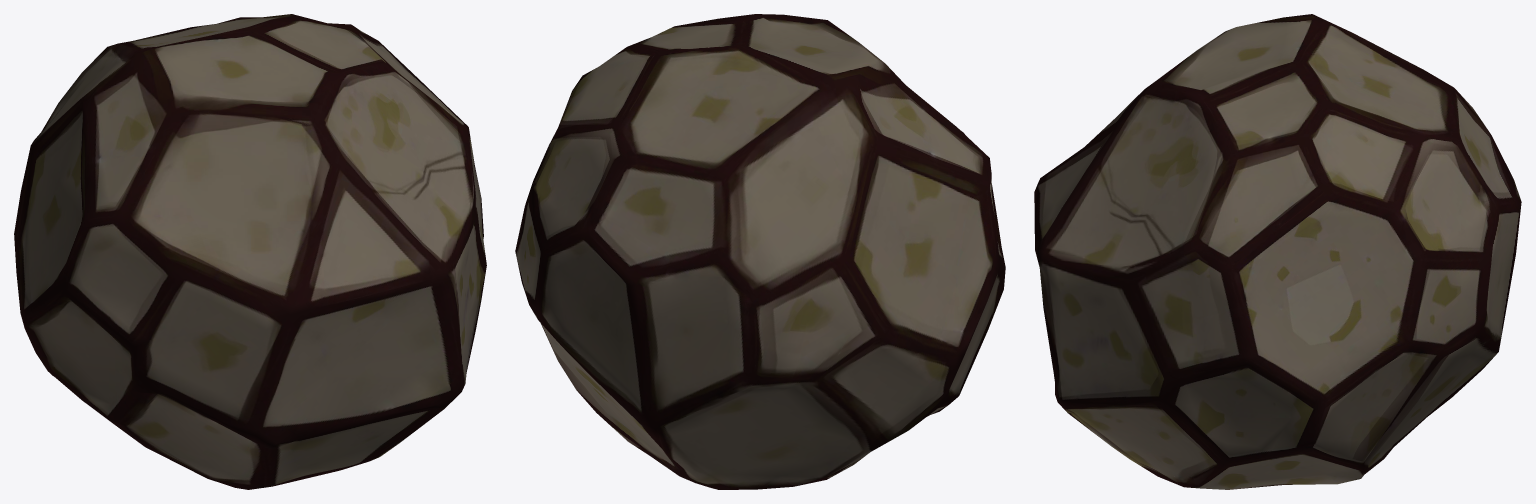
Rendered from Ball.fbx.
3 renders of one model, left to right at view 1: azimuth 30°, elevation 25°; view 2: azimuth 150°, elevation 25°; view 3: azimuth 270°, elevation 25°, orthographic. The views are drawn at different scales.
Visible parts, largest first — view 1: tripo_node_ae5eacd1; view 2: tripo_node_ae5eacd1; view 3: tripo_node_ae5eacd1.
Part boxes in pixels (x1,y1,x2,y2): tripo_node_ae5eacd1: (14, 14, 486, 489); tripo_node_ae5eacd1: (515, 14, 1005, 489); tripo_node_ae5eacd1: (1034, 14, 1521, 489).
Size of the model in its own units: 0.9925 by 0.9068 by 0.9815.
1 material, 1 textured.
